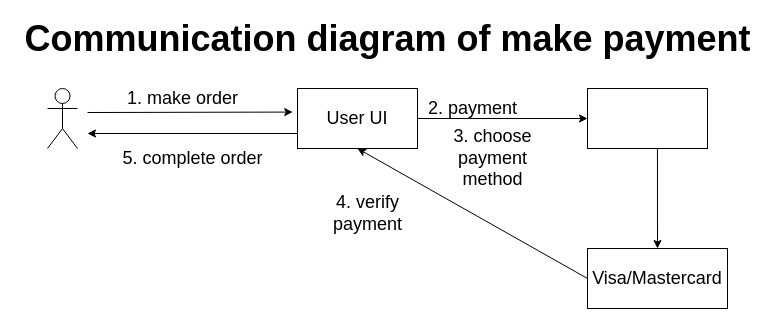
This 774x326 diagram has some shape labels left out. Here are the shapes that lost their labels. From the top down, the centre of each, then its label:
[62,118]: Customer
[647,118]: Payment Gateway
